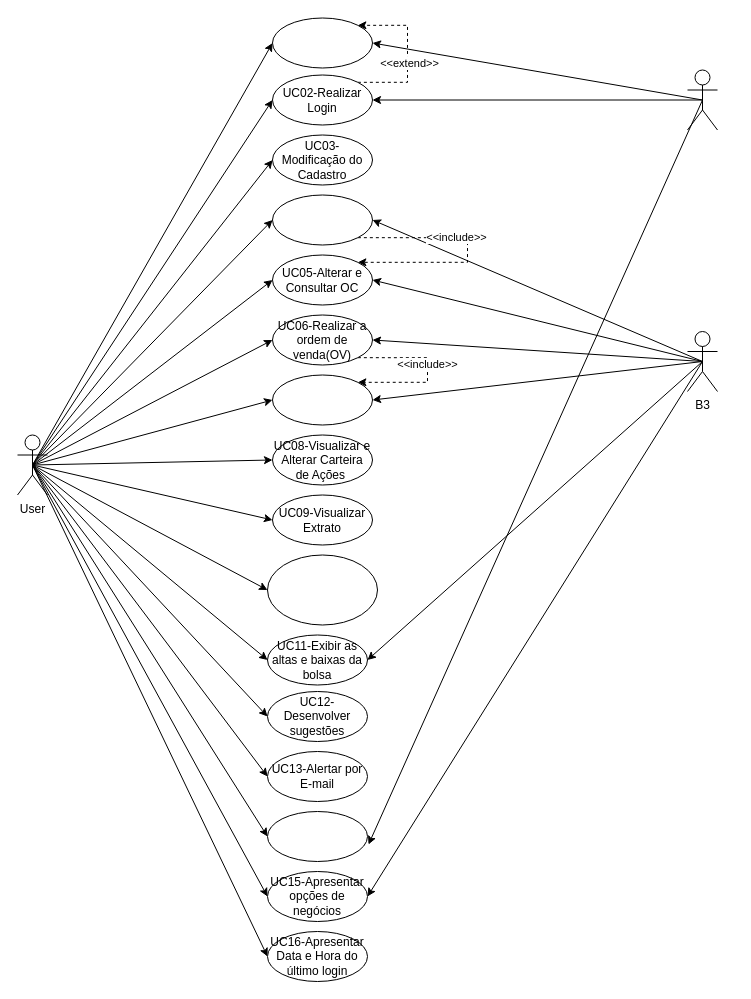
The diagram is 751 pixels wide and 999 high, and some of its shapes have lost their labels. Here are the shapes that lost their labels. From the top down, the box of each, then its label:
(272, 17, 372, 68): UC01-Realizar Cadastro
(686, 69, 718, 130): Funcionário
(272, 194, 372, 245): UC04-Realizar a ordem de compra(OC)
(272, 374, 372, 425): UC07-Alterar e Consultar OV
(266, 554, 378, 625): UC10-Implementção do botão "Negócio Rápido"
(266, 810, 368, 862): UC14-Criar guia do iniciante
